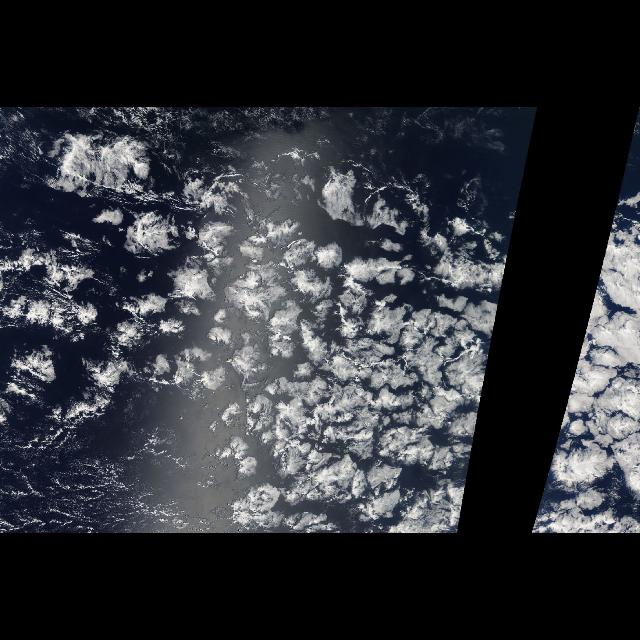Flower: (6, 128, 487, 506)
